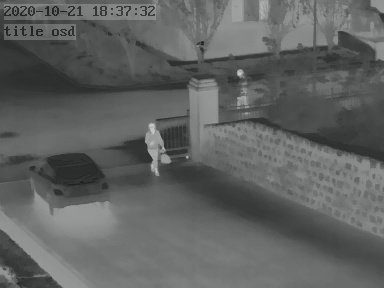person: (145, 121, 168, 173), (232, 66, 251, 110)
vehicle: (27, 151, 109, 212)
